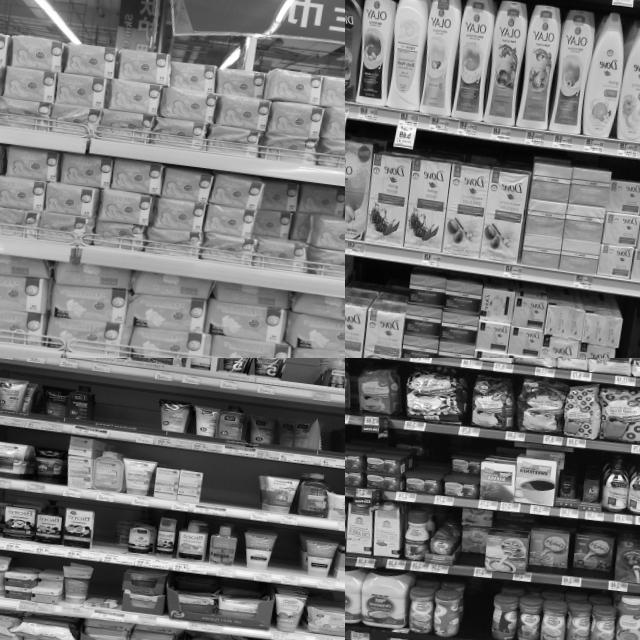100- O.O.S: (92, 390, 158, 444), (198, 462, 258, 519), (457, 586, 493, 640), (272, 532, 298, 584), (283, 358, 315, 399), (90, 509, 114, 562), (320, 424, 338, 467)
